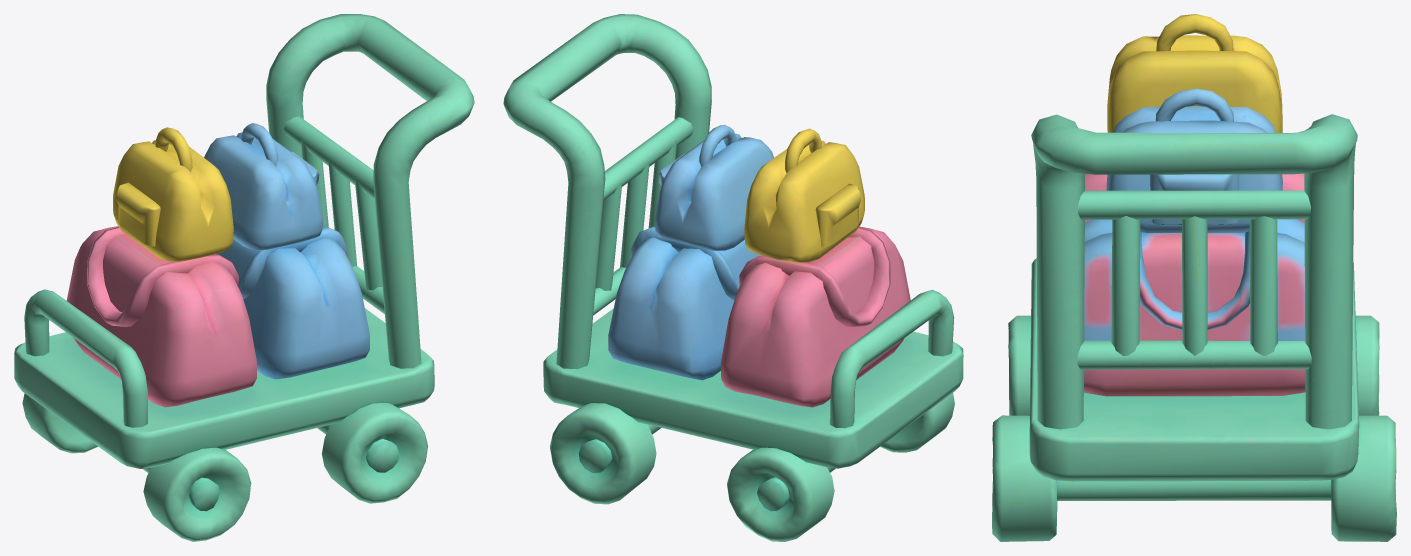
File: luggage-cart.glb
3 views of the same model, side by side, from view 1: azimuth 30°, elevation 25°; view 2: azimuth 150°, elevation 25°; view 3: azimuth 270°, elevation 25° (orthographic). The views are drawn at different scales.
Parts seen in each view (by area): view 1: geometry_0; view 2: geometry_0; view 3: geometry_0.
Boxes of the visible parts, x1,y1,x2,y2 form: geometry_0: (14,14,474,541); geometry_0: (503,14,963,541); geometry_0: (992,14,1396,541).
Bounding box in the file's own units: 1 × 1 × 0.7805.
Materials: 1 (1 with a texture image).
